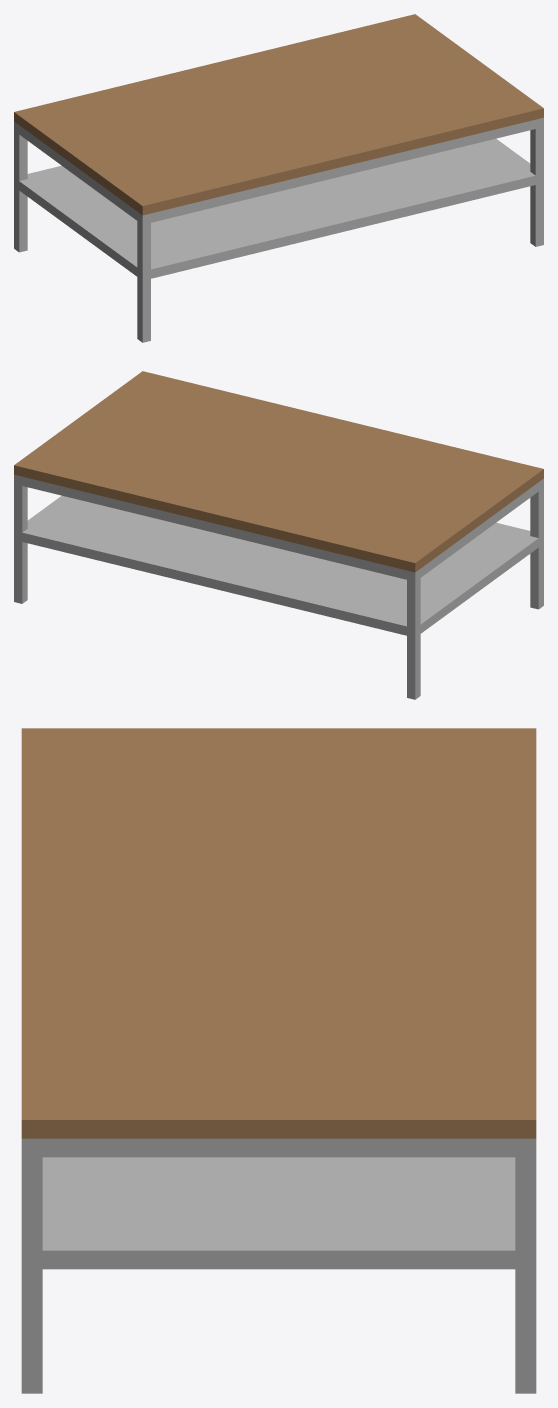
File: coffee_table_1.FBX
The picture shows the model from 3 angles, top to bottom: view 1: azimuth 30°, elevation 25°; view 2: azimuth 150°, elevation 25°; view 3: azimuth 270°, elevation 25°; orthographic projection. The views are drawn at different scales.
Visible parts, largest first — view 1: coffee_table_1; view 2: coffee_table_1; view 3: coffee_table_1.
Part boxes in pixels (<box>): coffee_table_1: <box>14,14,543,342</box>; coffee_table_1: <box>14,371,543,699</box>; coffee_table_1: <box>21,728,536,1393</box>.
Bounding box in the file's own units: 0.9002 × 0.293 × 0.5001.
